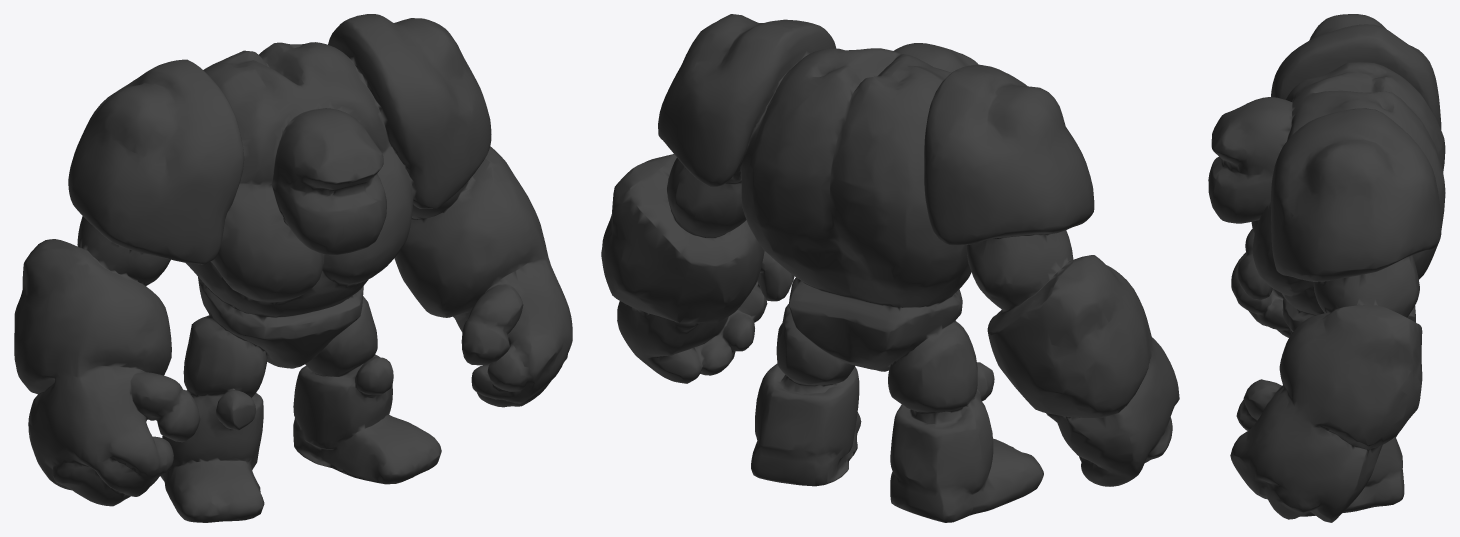
The model's file is muro.glb.
3 views of the same model, side by side, from view 1: azimuth 30°, elevation 25°; view 2: azimuth 150°, elevation 25°; view 3: azimuth 270°, elevation 25° (orthographic). The views are drawn at different scales.
Visible parts, largest first — view 1: geometry_0; view 2: geometry_0; view 3: geometry_0.
Boxes of the visible parts, x1=… form: geometry_0: x1=14, y1=14, x2=572, y2=522; geometry_0: x1=601, y1=14, x2=1179, y2=522; geometry_0: x1=1208, y1=14, x2=1445, y2=522.
Bounding box in the file's own units: 1.23 × 0.985 × 0.5387.
1 material, 1 textured.
